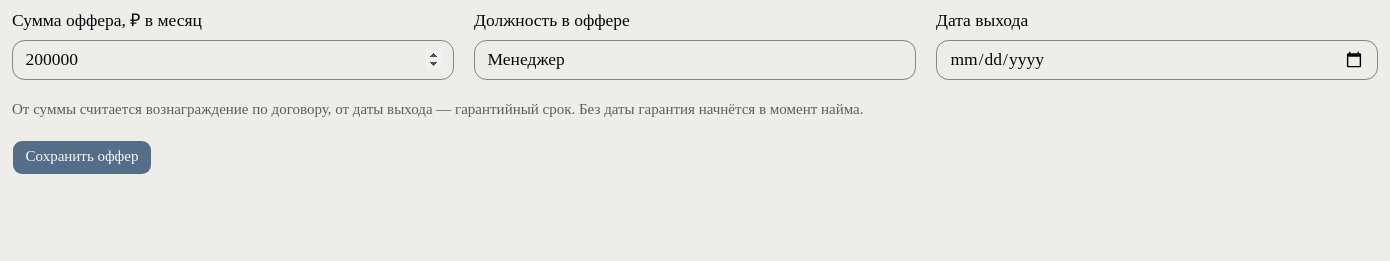
Test: оффер › успех: «Оффер сохранён» — плашка с галочкой, значения остаются (это сохранённое)
Click the button "Сохранить оффер". click: {"x": 82, "y": 158}
box: [12,140,152,175]
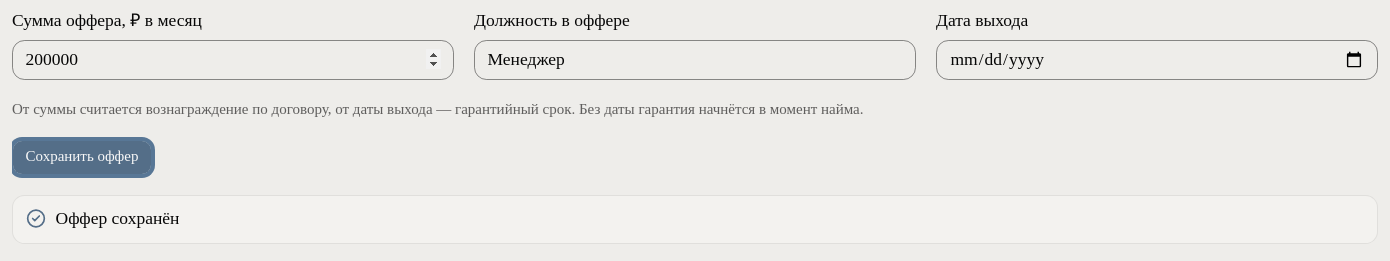
expect the field labelled "Должность в оффере" holds "Менеджер": met, box [474,40,916,80]
expect the icon is shown: met, box [26,208,46,228]
